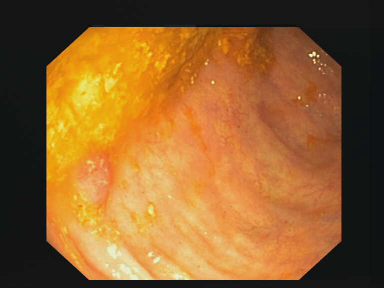polyp: (70, 149, 127, 214)
